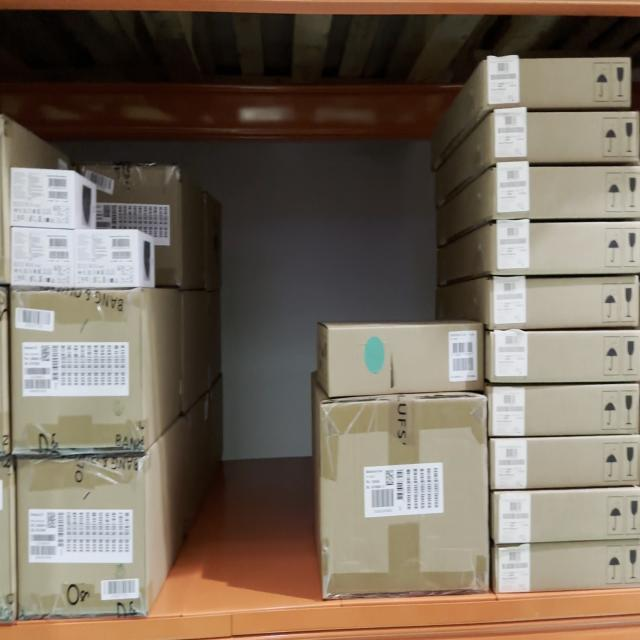box: (321, 408, 487, 595), (11, 293, 142, 453), (17, 463, 145, 619), (326, 328, 479, 394), (490, 49, 632, 106), (501, 227, 639, 276), (499, 171, 640, 218), (499, 115, 640, 161), (10, 171, 76, 222), (77, 234, 136, 285), (12, 232, 71, 281)
